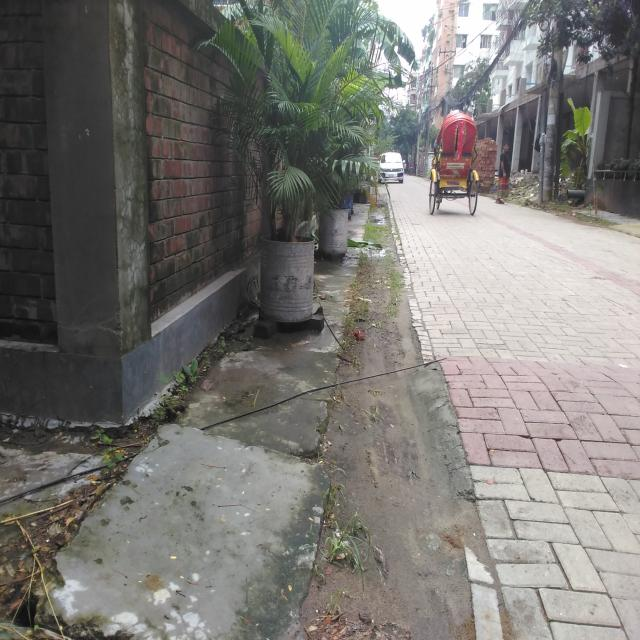artificial_container: (258, 231, 316, 326), (318, 202, 349, 260)
